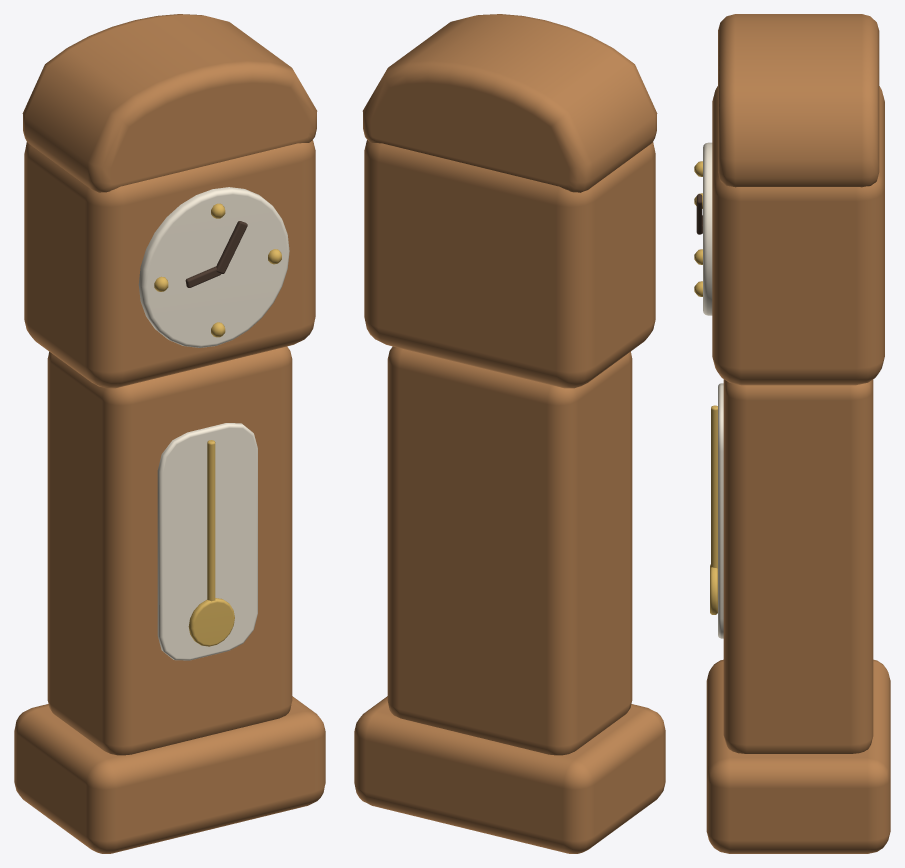
The model's file is tall_case_clock.glb.
The picture shows the model from 3 angles, left to right: view 1: azimuth 30°, elevation 25°; view 2: azimuth 150°, elevation 25°; view 3: azimuth 270°, elevation 25°; orthographic projection.
Visible parts, largest first — view 1: tall_case_clock_mesh; view 2: tall_case_clock_mesh; view 3: tall_case_clock_mesh.
Boxes of the visible parts, x1,y1,x2,y2 form: tall_case_clock_mesh: [14, 14, 325, 853]; tall_case_clock_mesh: [354, 14, 665, 853]; tall_case_clock_mesh: [694, 14, 890, 853].
Size of the model in its own units: 0.48 by 1.47 by 0.3413.
